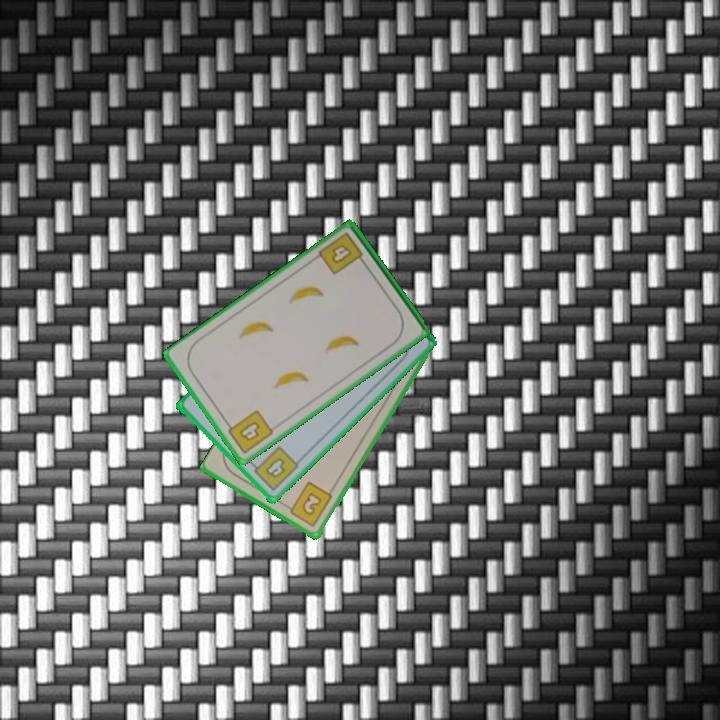2b: (282, 479, 336, 530)
4b: (246, 443, 302, 494), (222, 406, 276, 457), (315, 229, 369, 278)
